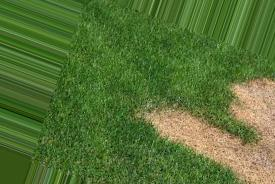patch: (157, 110, 244, 158), (238, 81, 275, 128), (227, 144, 270, 177)
